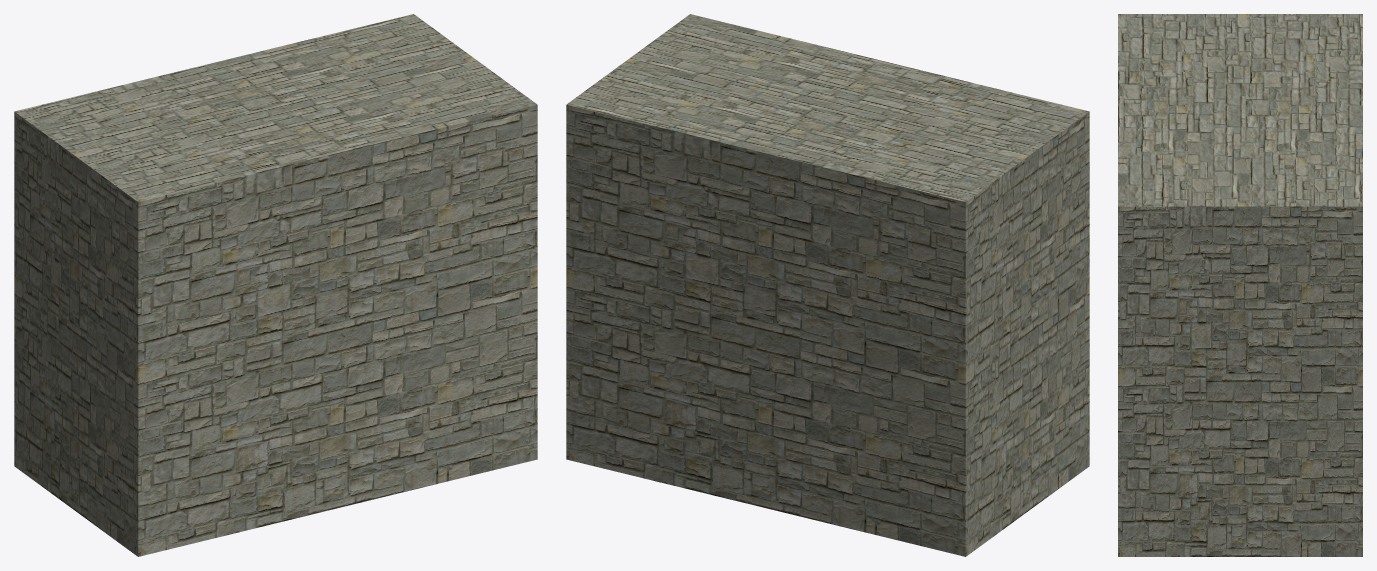
3 renders of one model, left to right at view 1: azimuth 30°, elevation 25°; view 2: azimuth 150°, elevation 25°; view 3: azimuth 270°, elevation 25°, orthographic.
Parts seen in each view (by area): view 1: Box001_Material #47_0; view 2: Box001_Material #47_0; view 3: Box001_Material #47_0.
Boxes of the visible parts, bbox=[...] form: Box001_Material #47_0: bbox=[14, 14, 537, 556]; Box001_Material #47_0: bbox=[566, 14, 1089, 556]; Box001_Material #47_0: bbox=[1118, 14, 1362, 556].
Bounding box in the file's own units: 1.4 × 1.19 × 0.7545.
Materials: 1 (1 with a texture image).
